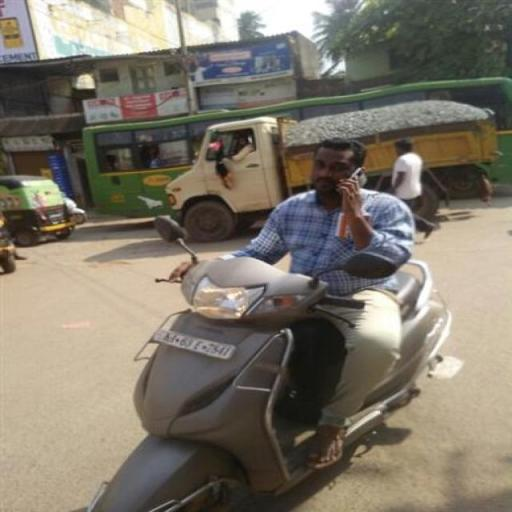using mobile: (337, 160, 377, 206)
